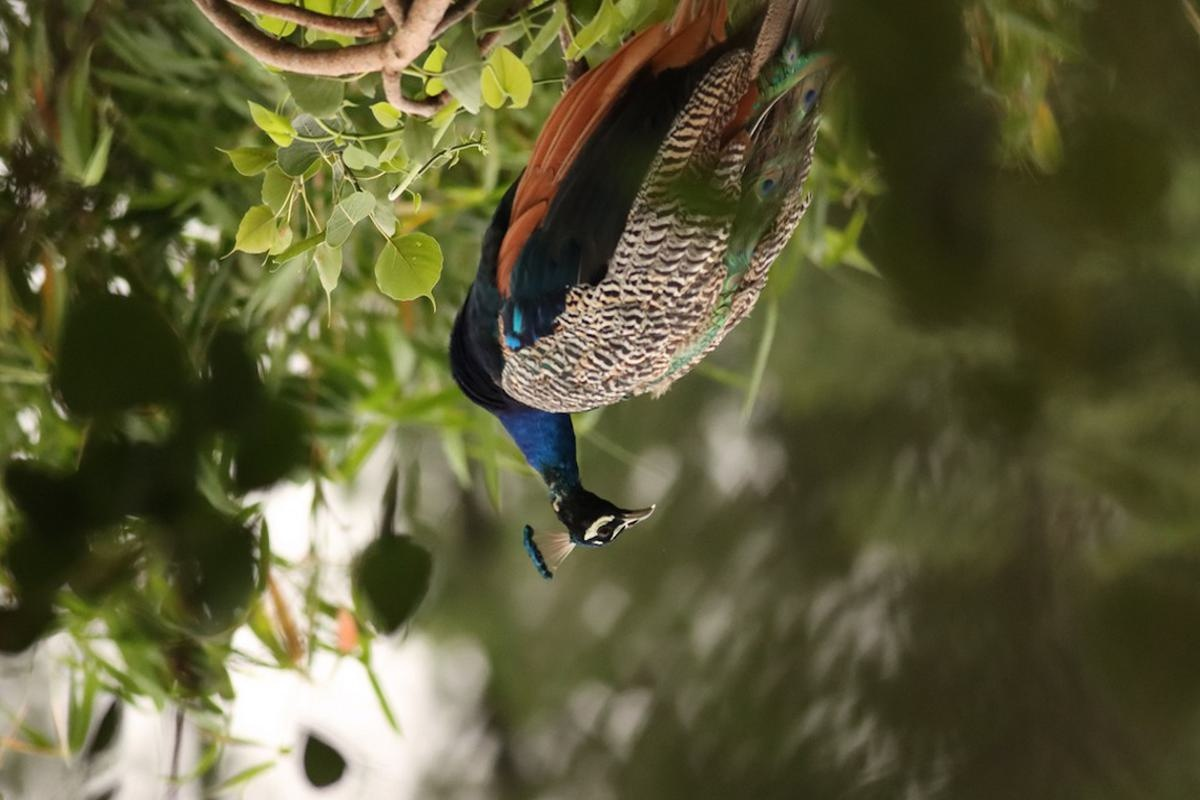peacock: (444, 26, 898, 603)
